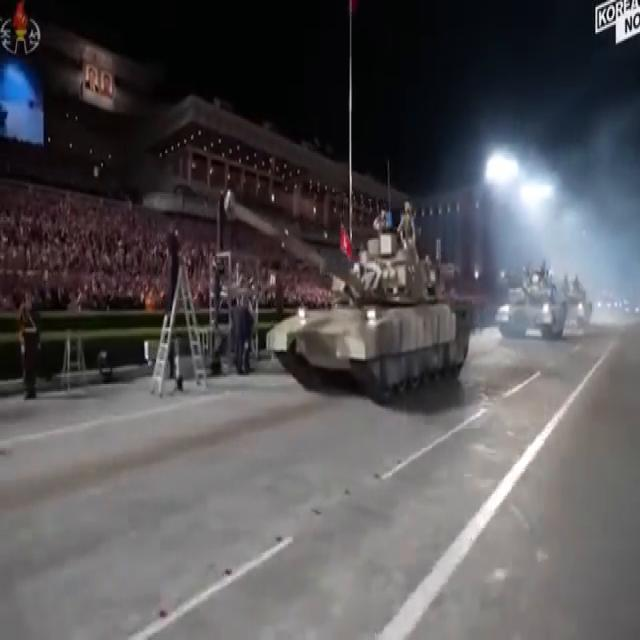north tank: (224, 175, 487, 422), (485, 225, 574, 374)
